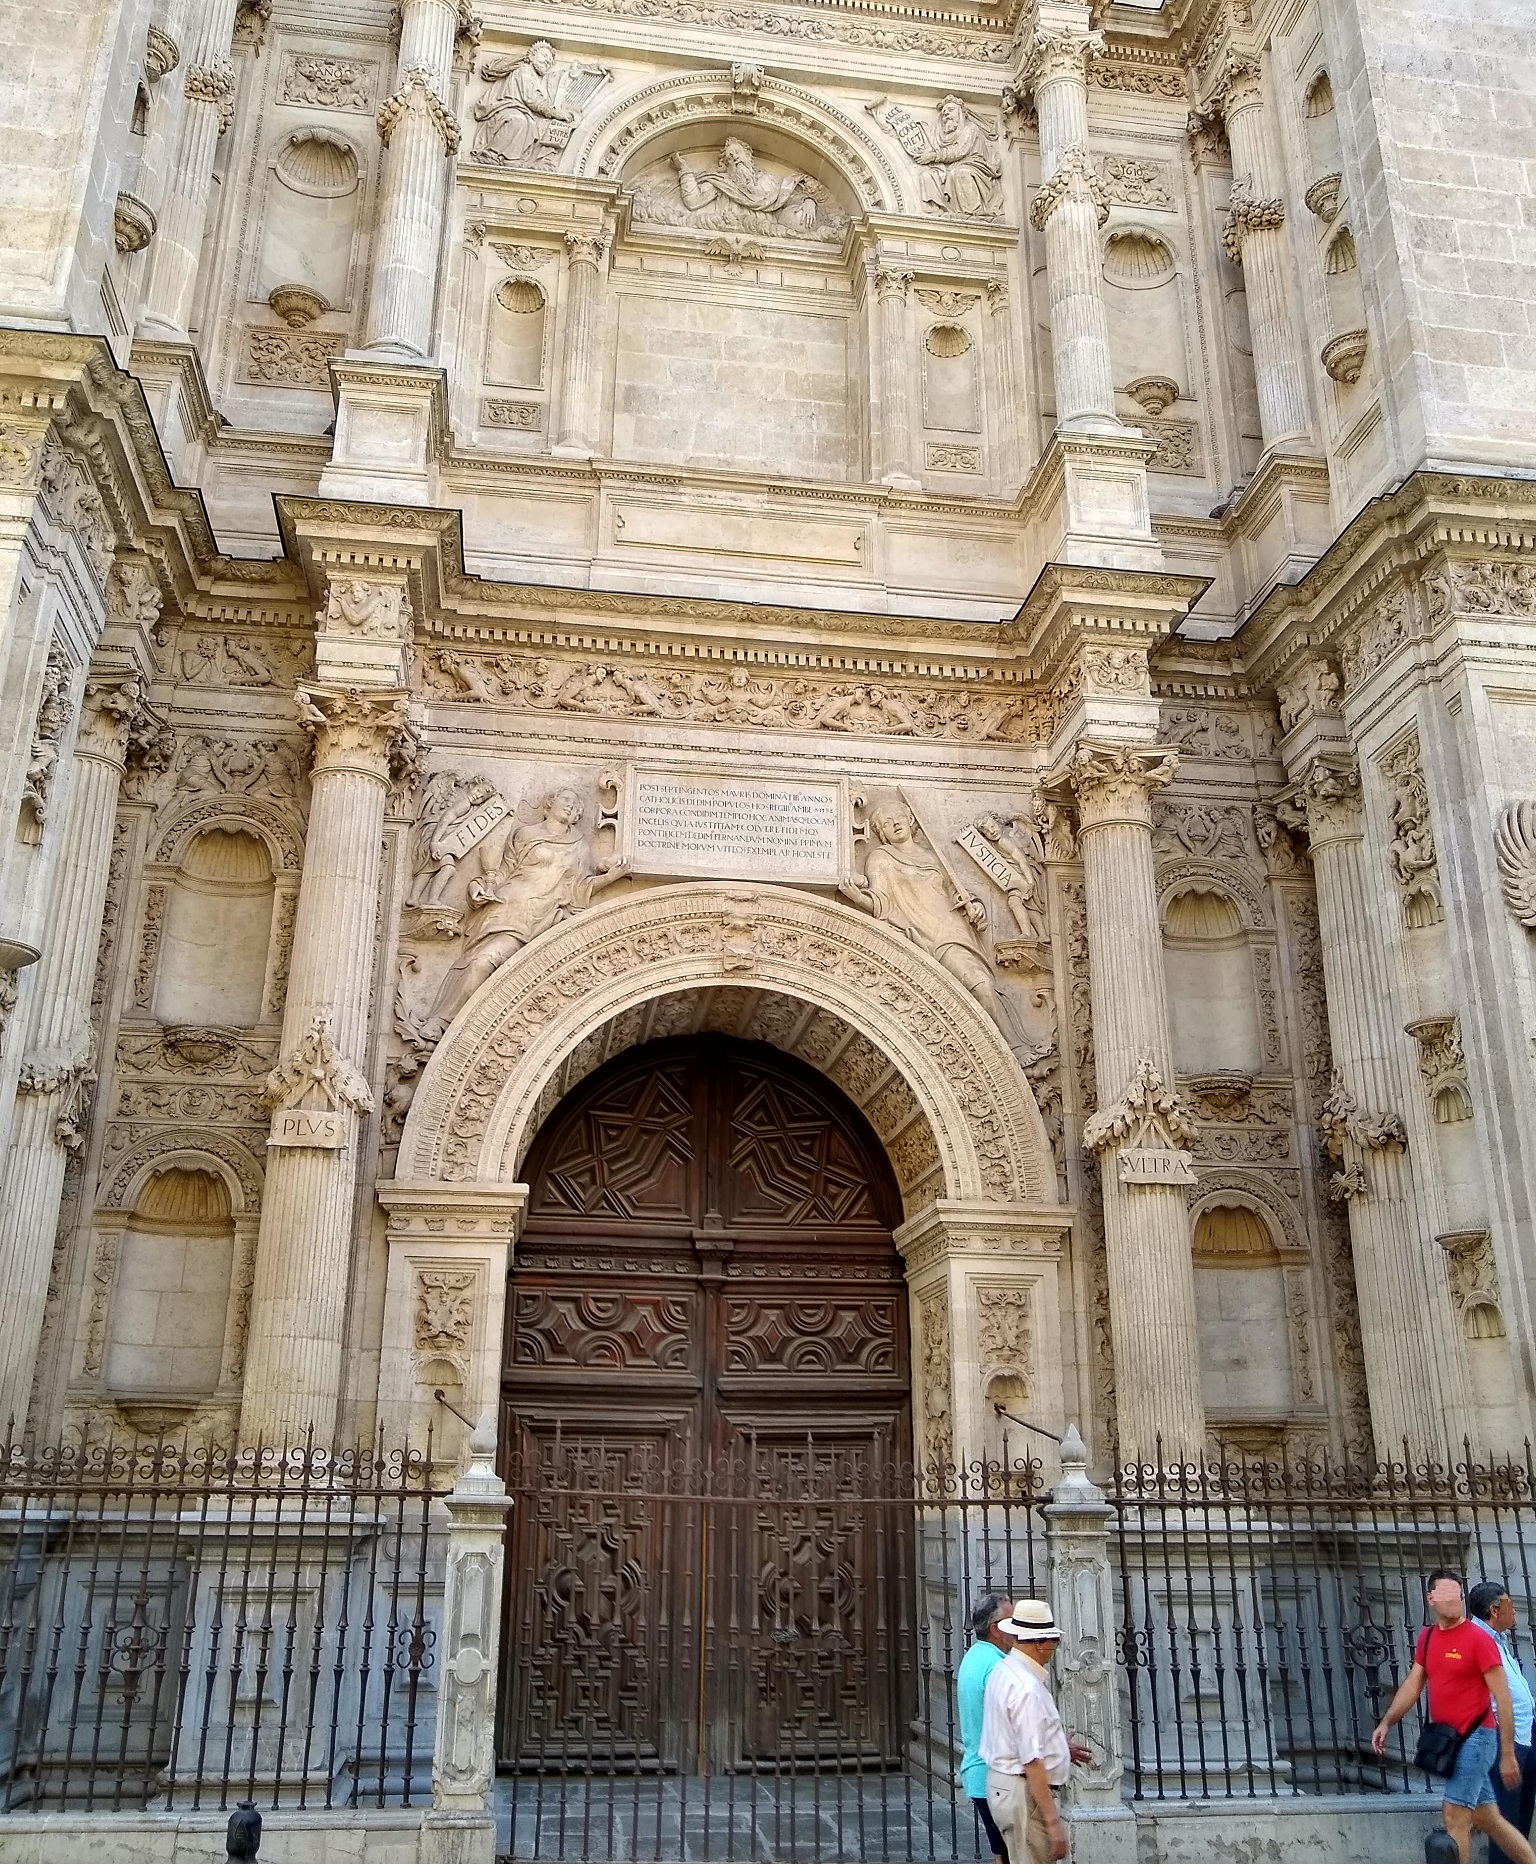arco-medio-punto: (483, 951, 979, 1270), (593, 91, 893, 257)
